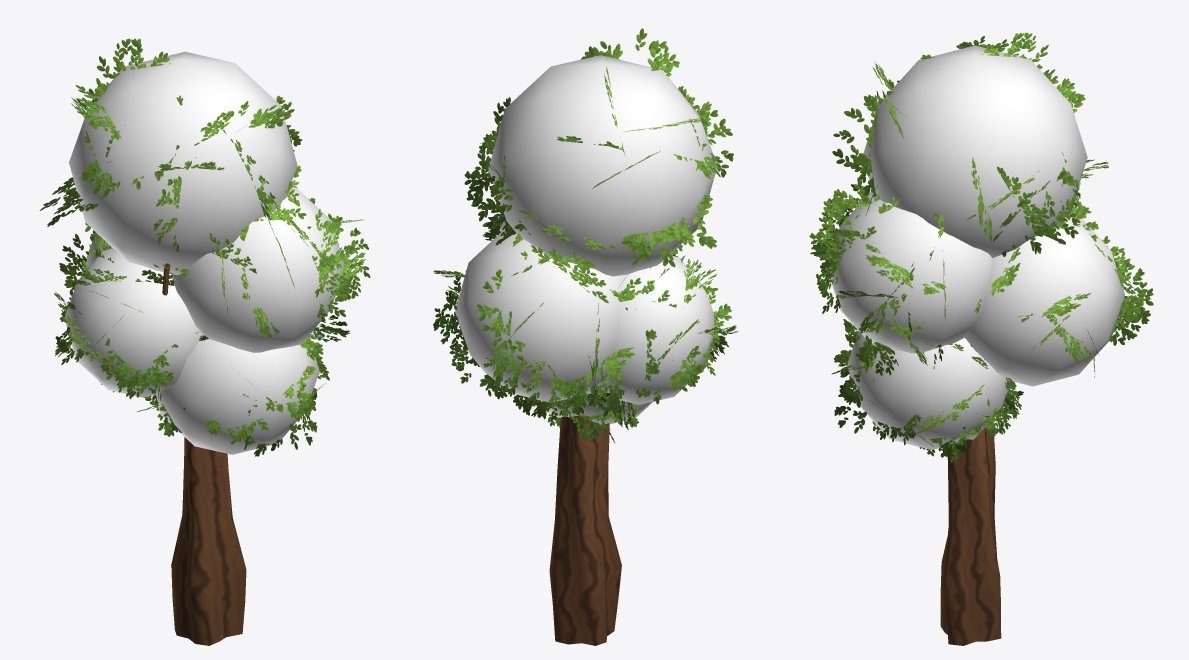
The model's file is grown_poplar1.gltf.
3 renders of one model, left to right at view 1: azimuth 30°, elevation 25°; view 2: azimuth 150°, elevation 25°; view 3: azimuth 270°, elevation 25°, orthographic.
Parts seen in each view (by area): view 1: grown_poplar1_shadow_LOD0, grown_poplar1_leaves_LOD0, grown_poplar1_trunk_LOD0; view 2: grown_poplar1_shadow_LOD0, grown_poplar1_leaves_LOD0, grown_poplar1_trunk_LOD0; view 3: grown_poplar1_shadow_LOD0, grown_poplar1_leaves_LOD0, grown_poplar1_trunk_LOD0.
Boxes of the visible parts, left/top/right/bottom form: grown_poplar1_shadow_LOD0: left=64, top=51, right=343, bottom=454; grown_poplar1_leaves_LOD0: left=39, top=38, right=370, bottom=456; grown_poplar1_trunk_LOD0: left=162, top=263, right=246, bottom=645; grown_poplar1_shadow_LOD0: left=455, top=55, right=716, bottom=424; grown_poplar1_leaves_LOD0: left=433, top=28, right=738, bottom=442; grown_poplar1_trunk_LOD0: left=549, top=253, right=675, bottom=645; grown_poplar1_shadow_LOD0: left=829, top=45, right=1124, bottom=449; grown_poplar1_leaves_LOD0: left=809, top=32, right=1153, bottom=462; grown_poplar1_trunk_LOD0: left=940, top=344, right=1013, bottom=645.
Size of what is drawn, in the model's own units: 6.35 by 12.43 by 7.24.
3 materials, 2 textured.
